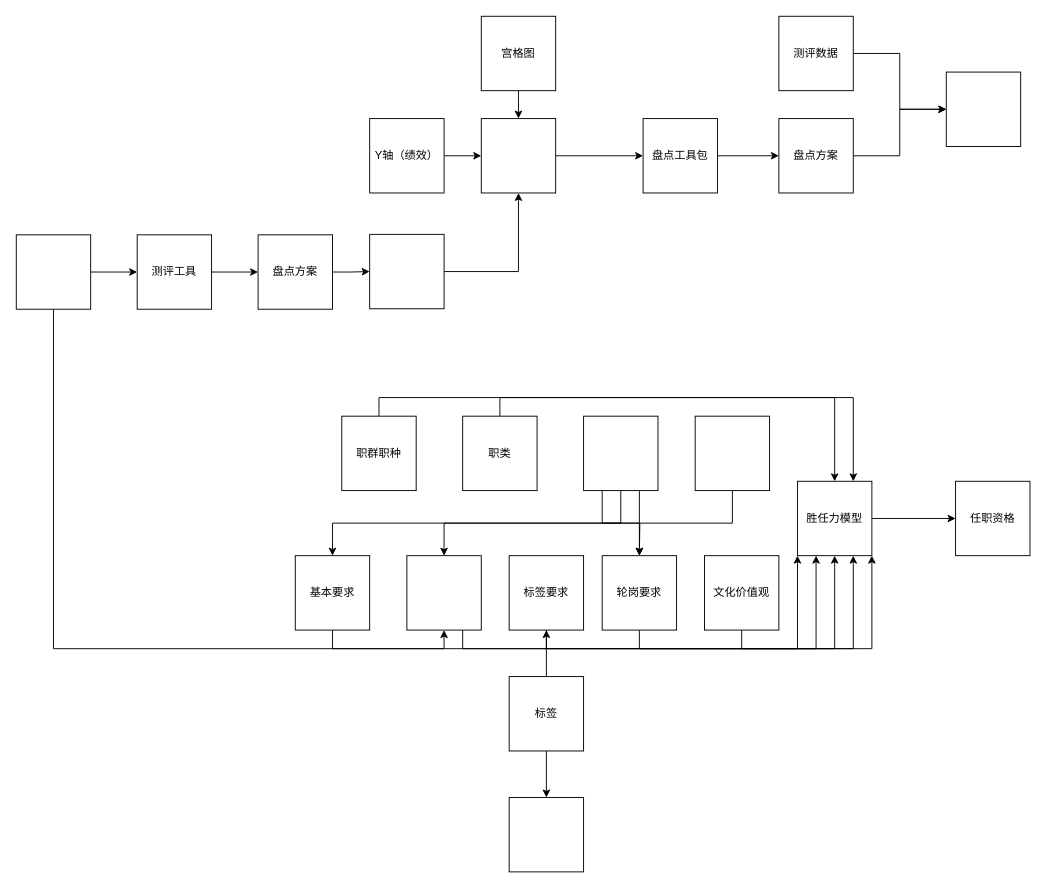
The diagram is 1046 pixels wide and 888 high, and some of its shapes have lost their labels. The centre of each missing label's shape, as x and y in pixels:
"X轴（潜力）" belongs at (x=406, y=271).
"匹配规则" belongs at (x=518, y=155).
"标签数据" belongs at (x=546, y=834).
"盘点结果" belongs at (x=983, y=108).
"职位" belongs at (x=732, y=453).
"职级" belongs at (x=620, y=453).
"能力要求" belongs at (x=443, y=592).
"能力项" belongs at (x=53, y=271).
